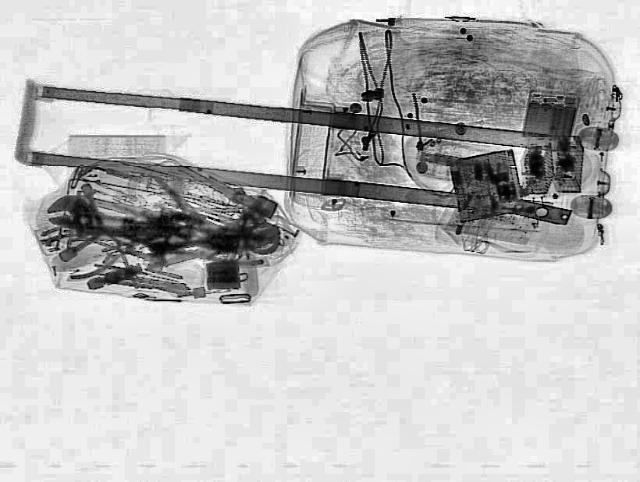Wrench: (39, 193, 285, 257)
